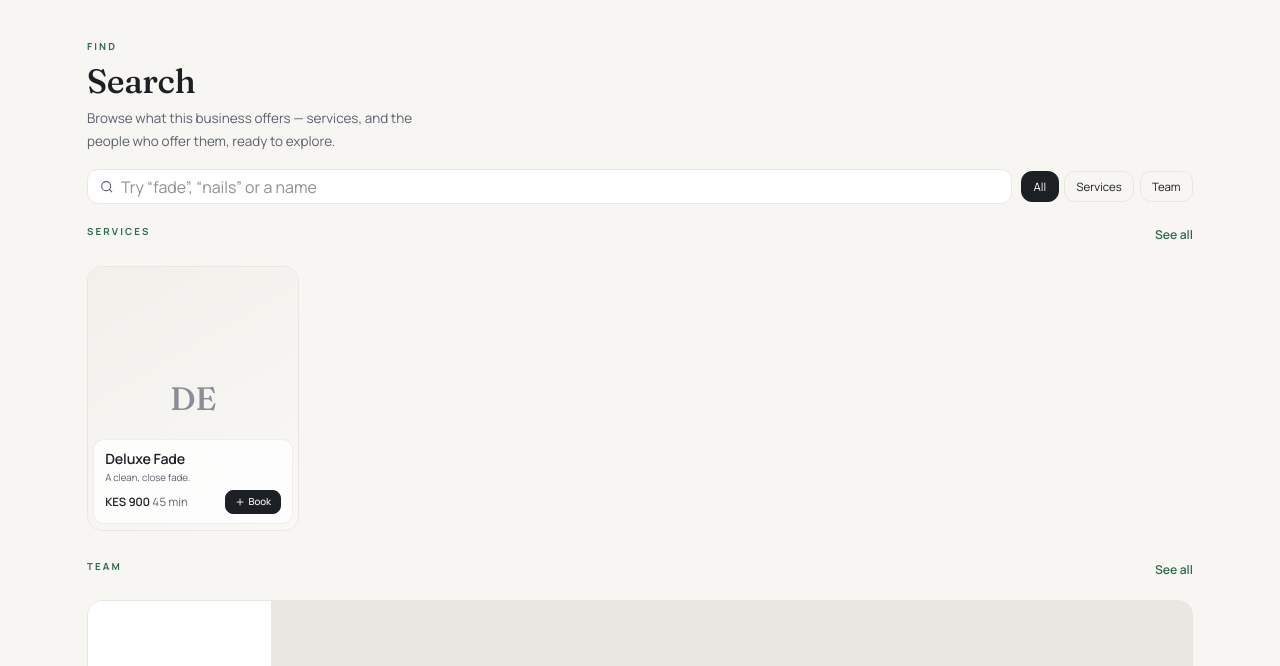
StorefrontSearchPage › issues one debounced request and renders the server’s results
In the search field named "search services and team": (560, 187) [121, 176, 998, 198], type "fade"
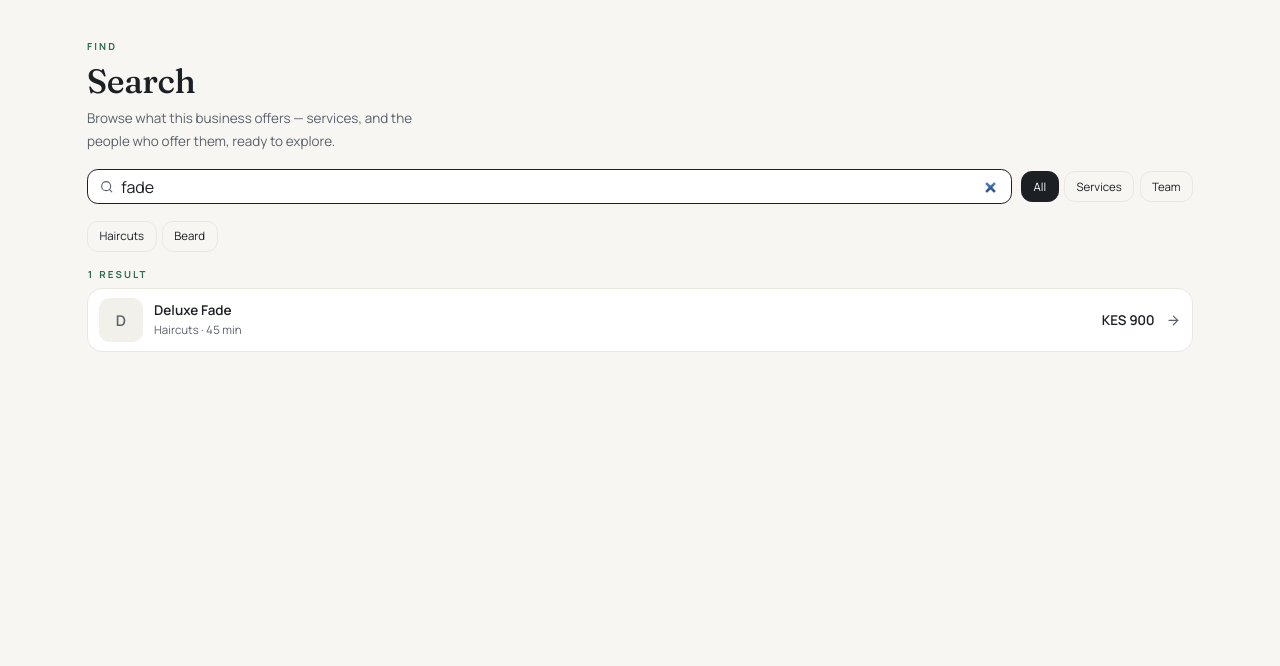
Result: the text "1 result" is shown at [87, 268, 148, 281]
